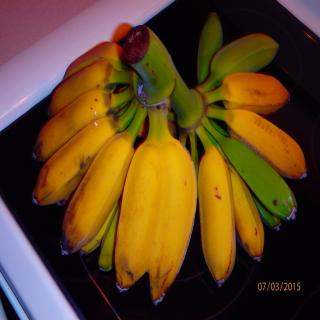Banana: (31, 12, 308, 305), (60, 100, 139, 255)
